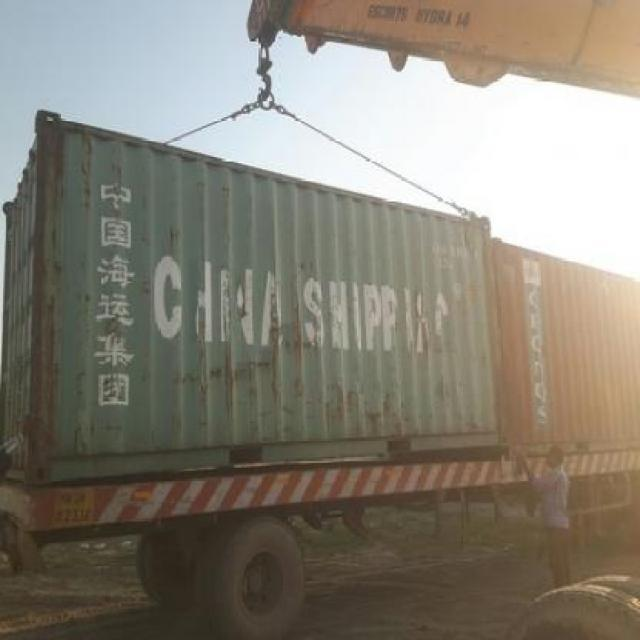rust: (29, 127, 66, 460), (272, 315, 283, 384), (294, 306, 303, 363), (227, 350, 233, 412), (366, 412, 381, 423), (384, 396, 390, 415)
